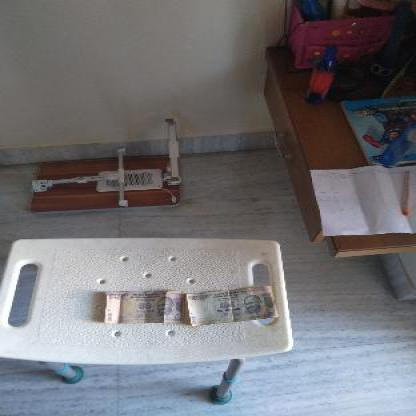Old100Front: (186, 286, 274, 326)
Old50Front: (105, 292, 185, 324)
